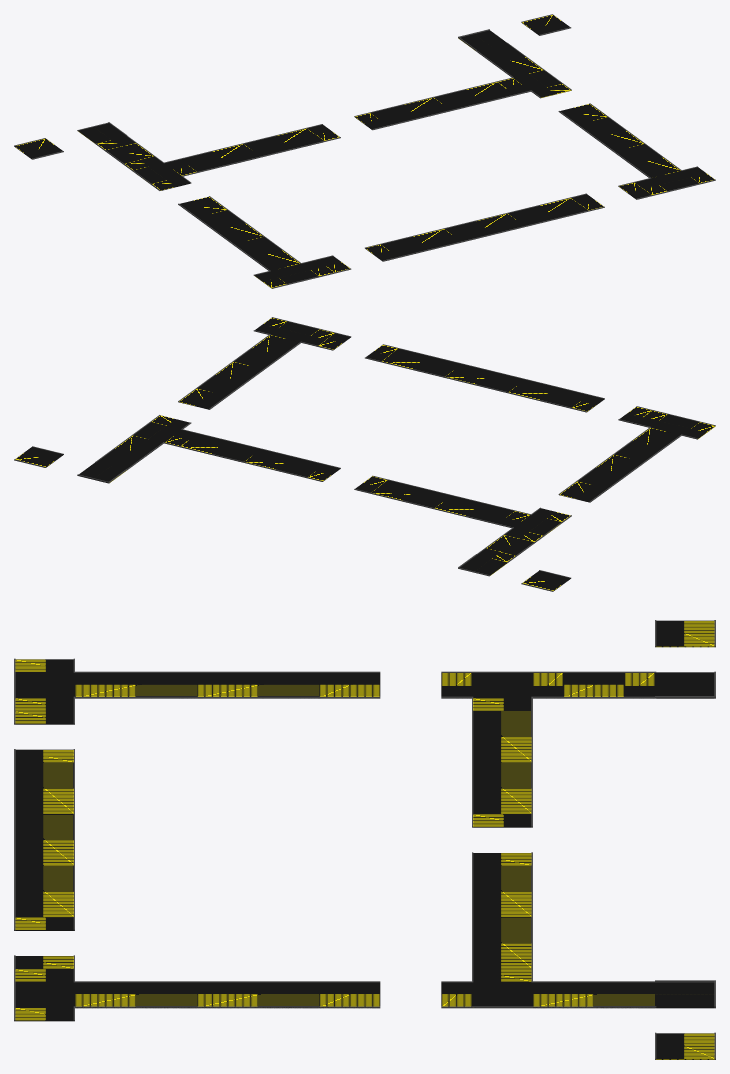
Rendered from Roads.fbx.
3 views of the same model, one above another, from view 1: azimuth 30°, elevation 25°; view 2: azimuth 150°, elevation 25°; view 3: azimuth 270°, elevation 25° (orthographic). The views are drawn at different scales.
Visible parts, largest first — view 1: Road; view 2: Road; view 3: Road.
Boxes of the visible parts, left/top/right/bottom form: Road: left=14, top=14, right=715, bottom=288; Road: left=14, top=317, right=715, bottom=591; Road: left=14, top=620, right=715, bottom=1059.
Size of the model in its own units: 136 by 0.3 by 92.01.
